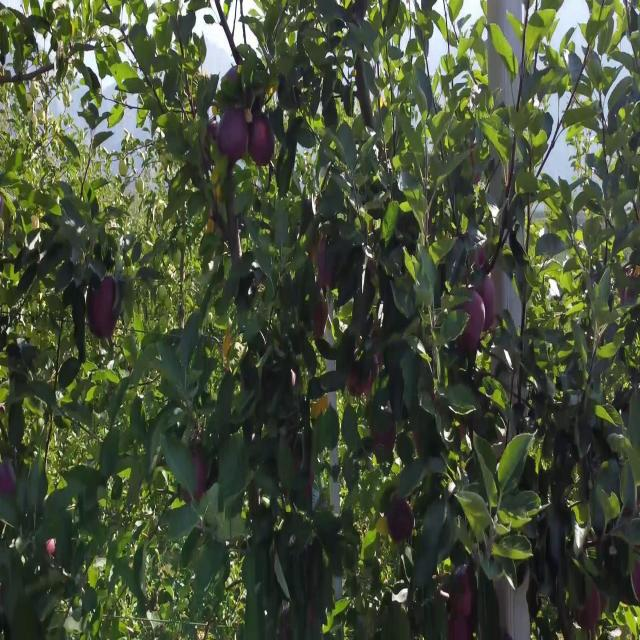apple: (88, 277, 118, 341), (456, 291, 484, 356), (248, 113, 276, 169), (220, 113, 249, 165), (484, 270, 507, 327), (312, 234, 334, 292), (388, 497, 415, 544), (480, 277, 503, 327), (348, 362, 376, 398), (192, 447, 209, 503), (580, 590, 603, 631), (452, 575, 473, 619), (620, 270, 640, 306), (204, 120, 220, 164), (372, 426, 396, 453), (0, 462, 16, 496), (316, 298, 328, 341), (364, 362, 379, 396), (224, 71, 242, 98), (452, 618, 473, 639), (348, 362, 360, 398), (208, 120, 220, 155), (312, 398, 329, 421), (224, 334, 234, 370), (632, 561, 640, 603), (476, 248, 488, 270), (204, 220, 217, 238), (48, 540, 57, 560)
